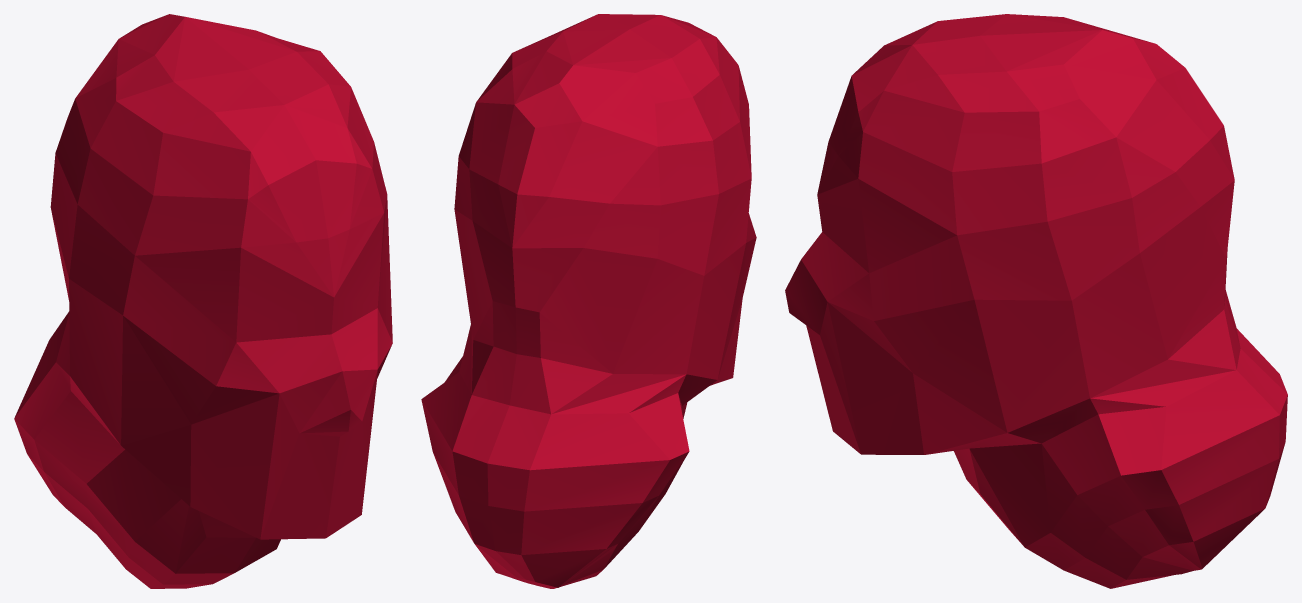
The model's file is head.fbx.
3 renders of one model, left to right at view 1: azimuth 30°, elevation 25°; view 2: azimuth 150°, elevation 25°; view 3: azimuth 270°, elevation 25°, orthographic. The views are drawn at different scales.
Visible parts, largest first — view 1: head; view 2: head; view 3: head.
Boxes of the visible parts, x1,y1,x2,y2 form: head: [14, 14, 392, 588]; head: [421, 14, 756, 588]; head: [785, 14, 1287, 588].
Size of the model in its own units: 0.1703 by 0.3278 by 0.2729.
